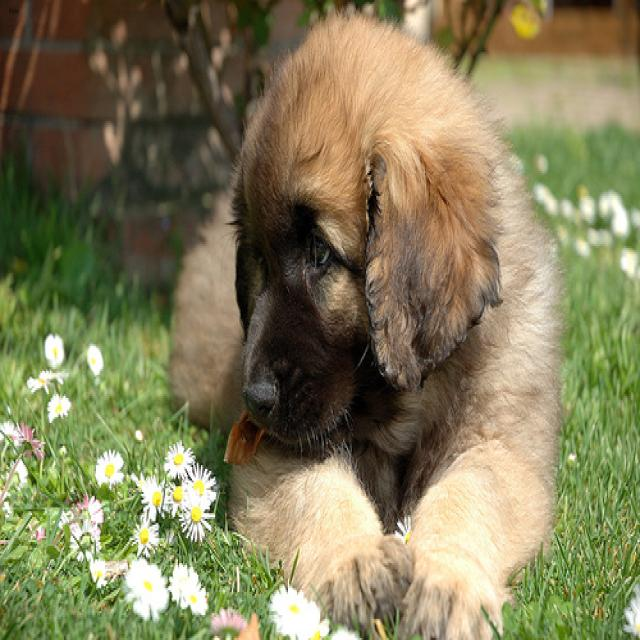dog-leonberger: (160, 4, 567, 636)
